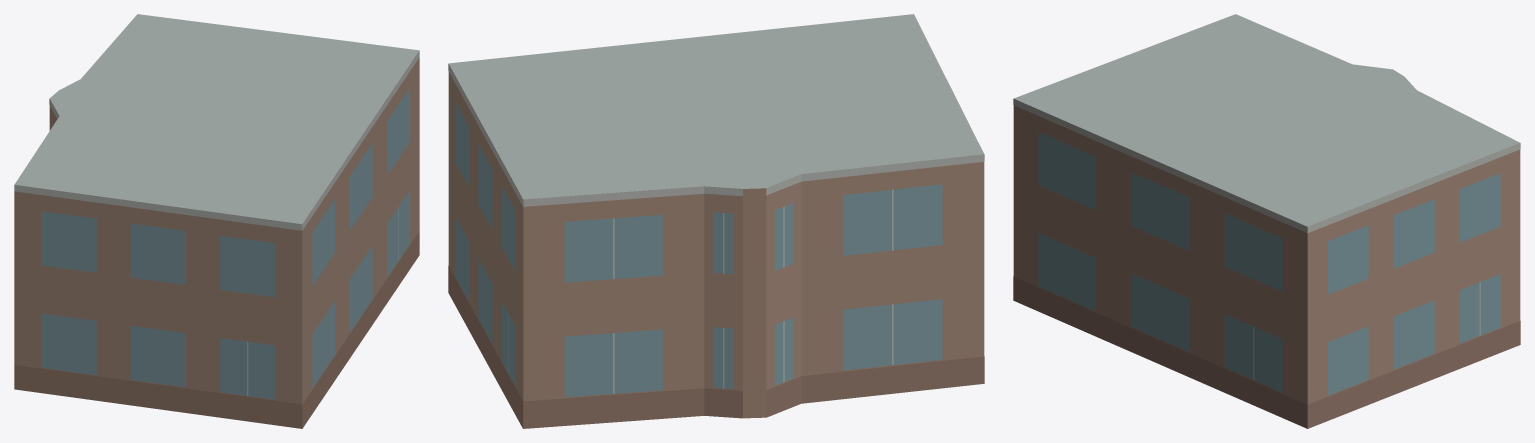
File: survey-upis-32624692.glb
The picture shows the model from 3 angles, left to right: view 1: azimuth 30°, elevation 25°; view 2: azimuth 150°, elevation 25°; view 3: azimuth 270°, elevation 25°; orthographic projection. The views are drawn at different scales.
Parts seen in each view (by area): view 1: survey-upis-32624692.tmp; view 2: survey-upis-32624692.tmp; view 3: survey-upis-32624692.tmp.
Part boxes in pixels (x1,y1,x2,y2): survey-upis-32624692.tmp: (14,14,419,428); survey-upis-32624692.tmp: (448,14,984,428); survey-upis-32624692.tmp: (1013,14,1520,428).
Bounding box in the file's own units: 17.18 × 7.6 × 17.29.
